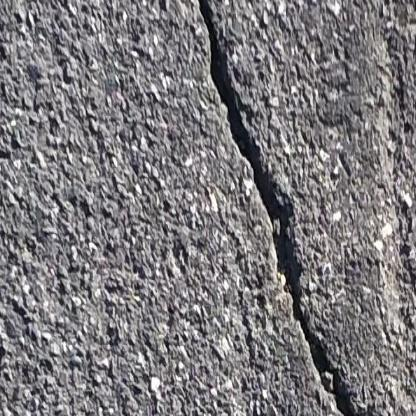Cracks: (189, 0, 313, 339), (307, 340, 395, 416)
